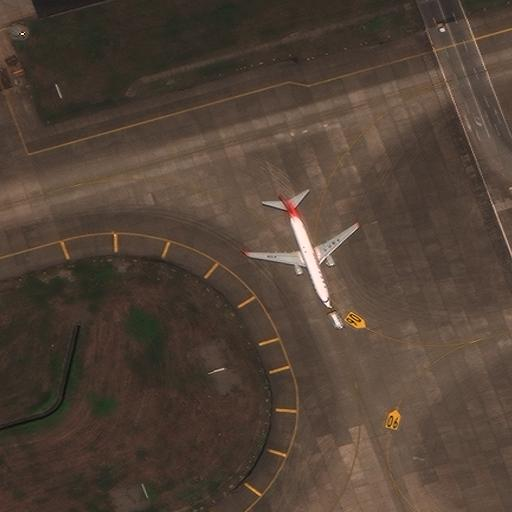Medium Civil Transport: (245, 193, 360, 307)
